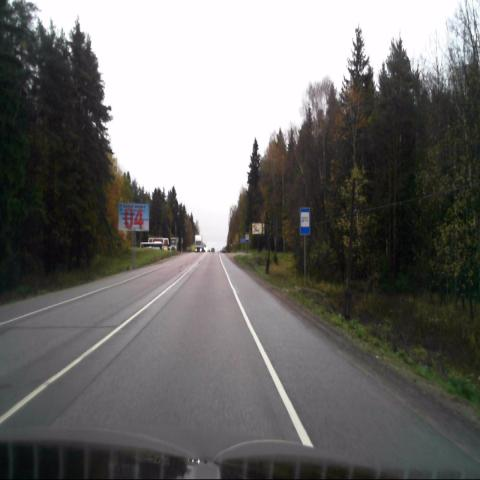7_12: (300, 207, 310, 234)
